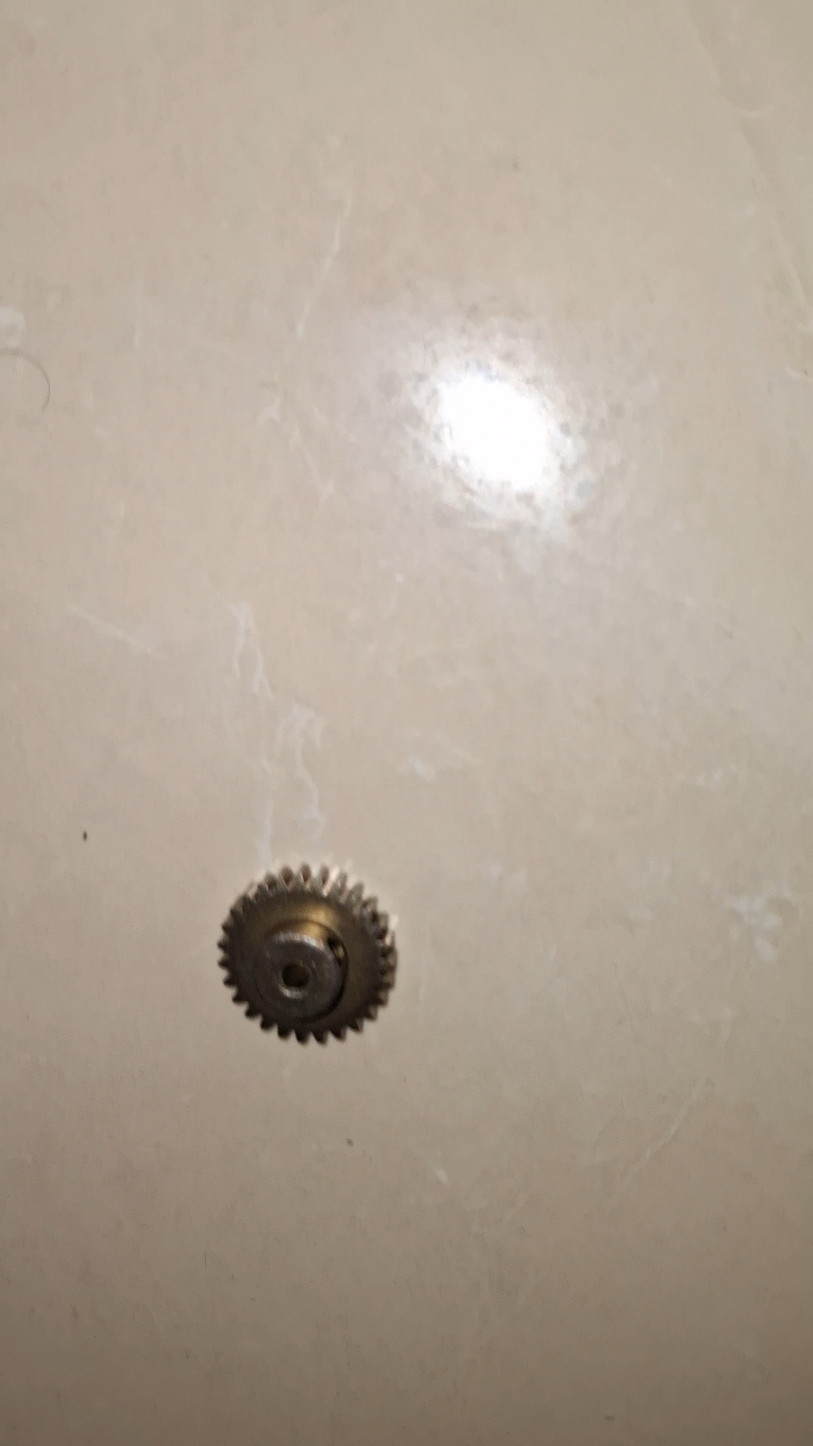spur gear: (220, 864, 396, 1042)
